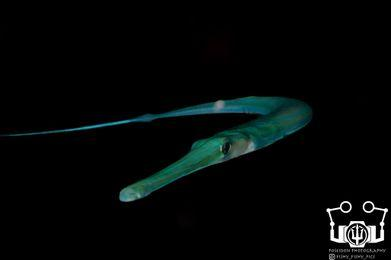Fistularia commersonii: (62, 82, 318, 221)
